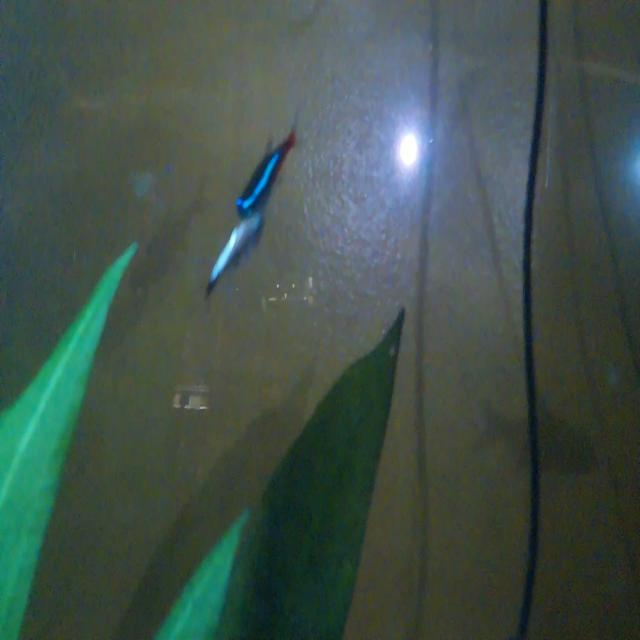fish: (228, 112, 302, 218)
